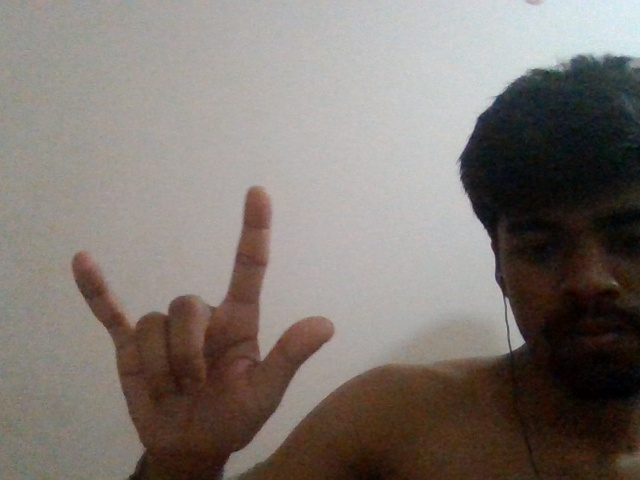ILoveYou: (66, 182, 338, 465)
